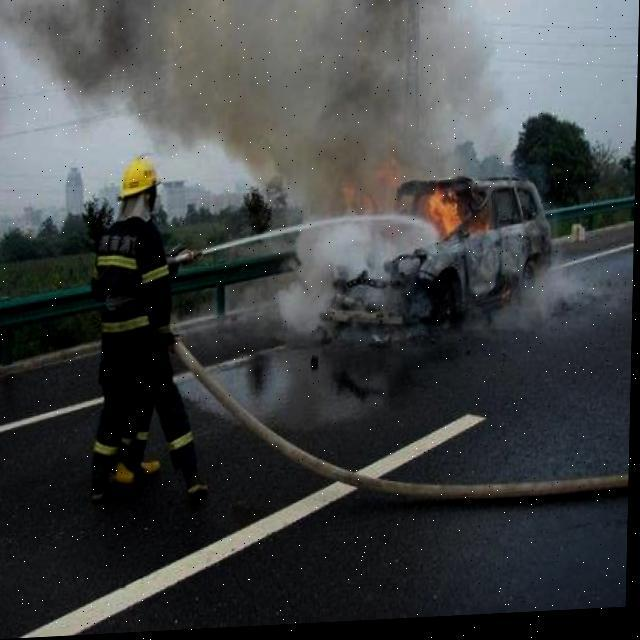Fire: (351, 162, 497, 258)
